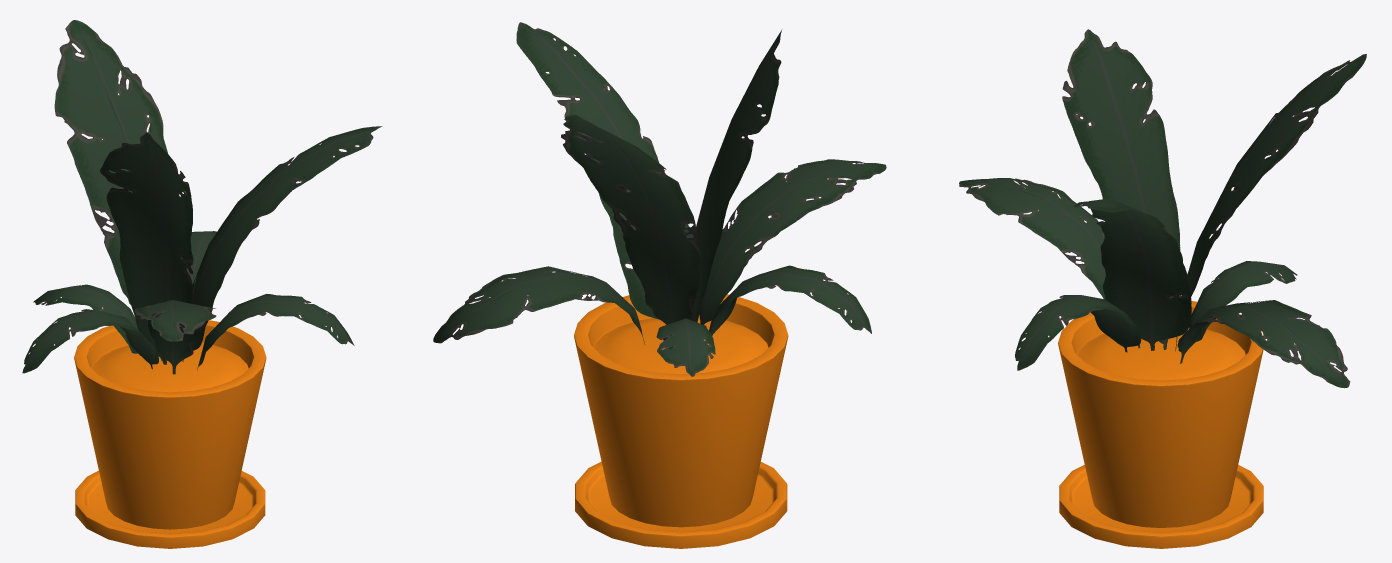
Rendered from SM_PlantBig.fbx.
3 renders of one model, left to right at view 1: azimuth 30°, elevation 25°; view 2: azimuth 150°, elevation 25°; view 3: azimuth 270°, elevation 25°, orthographic. The views are drawn at different scales.
Parts seen in each view (by area): view 1: Plant_Big_lp, Foliage_BigLeaf_3, Foliage_BigLeaf_1, Foliage_BigLeaf_2, Foliage_BigLeaf_1_2, Foliage_BigLeaf_2_2, Foliage_BigLeaf_2_3, Foliage_BigLeaf_3_2, Foliage_BigLeaf_1_3; view 2: Plant_Big_lp, Foliage_BigLeaf_1, Foliage_BigLeaf_1_2, Foliage_BigLeaf_2, Foliage_BigLeaf_3, Foliage_BigLeaf_1_3, Foliage_BigLeaf_2_2, Foliage_BigLeaf_3_2; view 3: Plant_Big_lp, Foliage_BigLeaf_3, Foliage_BigLeaf_2, Foliage_BigLeaf_1, Foliage_BigLeaf_1_2, Foliage_BigLeaf_1_3, Foliage_BigLeaf_2_3, Foliage_BigLeaf_3_2.
Boxes of the visible parts, bbox=[...] form: Plant_Big_lp: bbox=[74, 320, 266, 548]; Foliage_BigLeaf_3: bbox=[100, 132, 193, 364]; Foliage_BigLeaf_1: bbox=[54, 20, 180, 360]; Foliage_BigLeaf_2: bbox=[182, 126, 381, 361]; Foliage_BigLeaf_1_2: bbox=[134, 300, 216, 374]; Foliage_BigLeaf_2_2: bbox=[22, 309, 158, 373]; Foliage_BigLeaf_2_3: bbox=[197, 294, 354, 370]; Foliage_BigLeaf_3_2: bbox=[33, 284, 140, 355]; Foliage_BigLeaf_1_3: bbox=[181, 231, 216, 292]; Plant_Big_lp: bbox=[574, 294, 788, 548]; Foliage_BigLeaf_1: bbox=[561, 115, 700, 324]; Foliage_BigLeaf_1_2: bbox=[699, 159, 886, 324]; Foliage_BigLeaf_2: bbox=[516, 22, 693, 319]; Foliage_BigLeaf_3: bbox=[693, 30, 781, 322]; Foliage_BigLeaf_1_3: bbox=[433, 266, 644, 344]; Foliage_BigLeaf_2_2: bbox=[709, 265, 871, 335]; Foliage_BigLeaf_3_2: bbox=[656, 318, 715, 376]; Plant_Big_lp: bbox=[1058, 301, 1263, 548]; Foliage_BigLeaf_3: bbox=[1062, 29, 1180, 349]; Foliage_BigLeaf_2: bbox=[1074, 199, 1191, 350]; Foliage_BigLeaf_1: bbox=[1175, 54, 1366, 351]; Foliage_BigLeaf_1_2: bbox=[959, 178, 1140, 348]; Foliage_BigLeaf_1_3: bbox=[1177, 300, 1350, 388]; Foliage_BigLeaf_2_3: bbox=[1015, 295, 1141, 370]; Foliage_BigLeaf_3_2: bbox=[1189, 261, 1297, 341].
Size of the model in its own units: 12.69 by 14.39 by 12.76.
